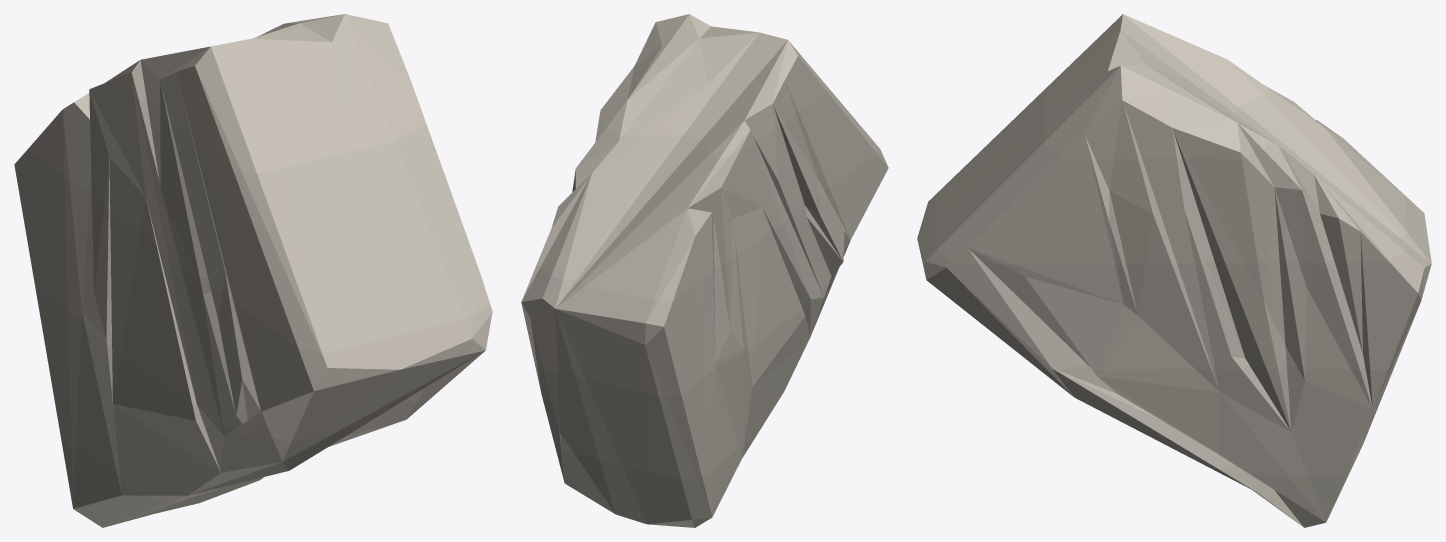
Rendered from YN_RockPlate11.fbx.
3 views of the same model, side by side, from view 1: azimuth 30°, elevation 25°; view 2: azimuth 150°, elevation 25°; view 3: azimuth 270°, elevation 25° (orthographic). The views are drawn at different scales.
Parts seen in each view (by area): view 1: RockPlate11; view 2: RockPlate11; view 3: RockPlate11.
Part boxes in pixels (x1,y1,x2,y2): RockPlate11: (14,14,492,527); RockPlate11: (521,14,888,527); RockPlate11: (917,14,1431,527).
Size of the model in its own units: 0.4993 by 1.25 by 1.25.
